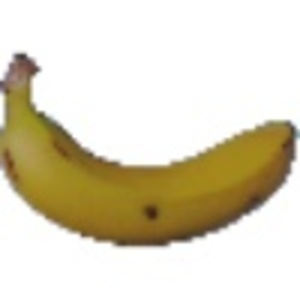banana: (1, 45, 299, 248)
